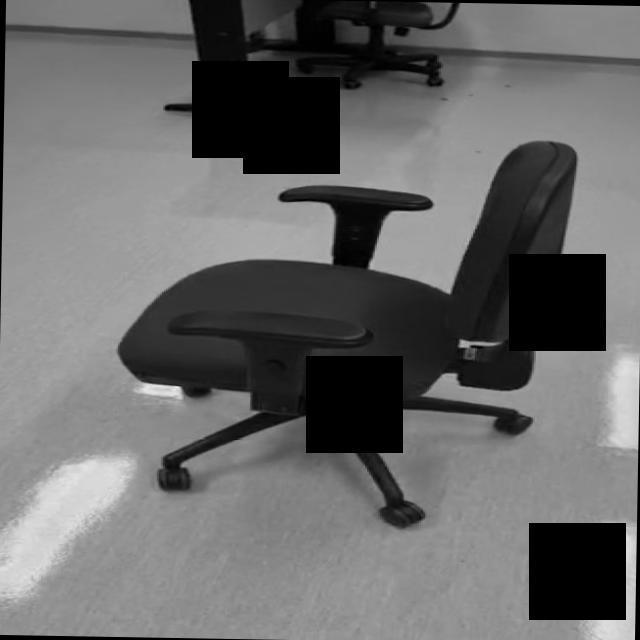chair: (114, 133, 578, 530)
